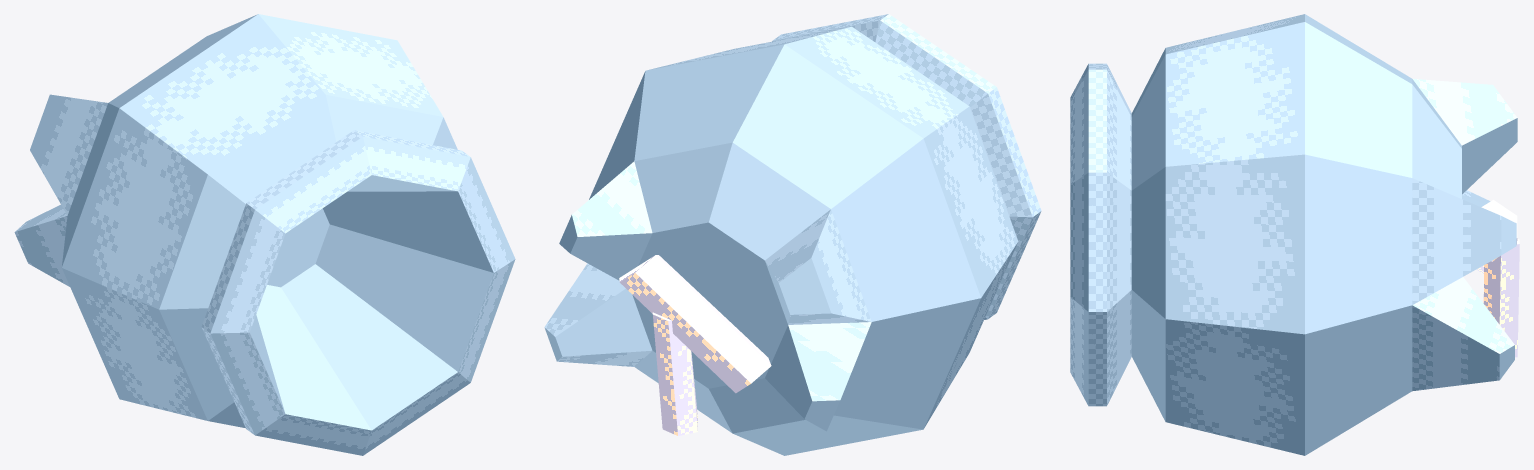
File: cauldron.glb
3 views of the same model, side by side, from view 1: azimuth 30°, elevation 25°; view 2: azimuth 150°, elevation 25°; view 3: azimuth 270°, elevation 25° (orthographic). The views are drawn at different scales.
Parts seen in each view (by area): view 1: Sphere; view 2: Sphere; view 3: Sphere.
Part boxes in pixels (x1,y1,x2,y2): Sphere: (14, 14, 515, 455); Sphere: (544, 14, 1041, 455); Sphere: (1070, 14, 1519, 455).
Size of the model in its own units: 2 by 2 by 1.91.
